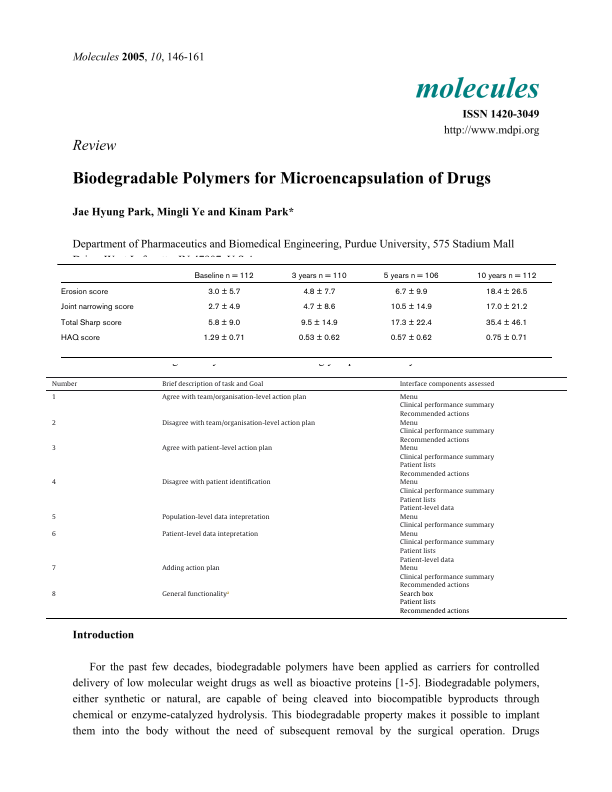borderless: (45, 376, 567, 618), (56, 262, 552, 357)
cell: (398, 445, 494, 479), (398, 479, 494, 513), (398, 531, 494, 565), (398, 419, 494, 445), (398, 394, 494, 419), (398, 565, 494, 590), (398, 591, 470, 616), (398, 513, 494, 530), (161, 419, 315, 428), (161, 394, 307, 402), (161, 479, 271, 488), (161, 513, 270, 522), (161, 380, 264, 389), (161, 445, 272, 453), (398, 380, 495, 389), (161, 531, 258, 539), (59, 303, 134, 313), (59, 318, 122, 328), (161, 590, 230, 599), (475, 271, 537, 281), (193, 271, 254, 281), (290, 271, 347, 281), (382, 271, 439, 281), (59, 287, 108, 297), (161, 565, 220, 573), (484, 287, 528, 297), (484, 303, 528, 313), (484, 318, 528, 328), (484, 334, 528, 344), (389, 303, 432, 313), (389, 318, 432, 328), (202, 334, 245, 344), (297, 334, 340, 344), (389, 334, 432, 344), (59, 334, 100, 344), (299, 318, 338, 328), (207, 287, 241, 297), (302, 287, 336, 297), (394, 287, 428, 297), (207, 303, 241, 313), (302, 303, 336, 313), (207, 318, 241, 328), (50, 380, 78, 389), (50, 419, 56, 428), (50, 479, 56, 488), (50, 513, 56, 522), (50, 394, 56, 402), (50, 445, 56, 453), (50, 531, 56, 539), (50, 565, 56, 573), (50, 591, 56, 599)
